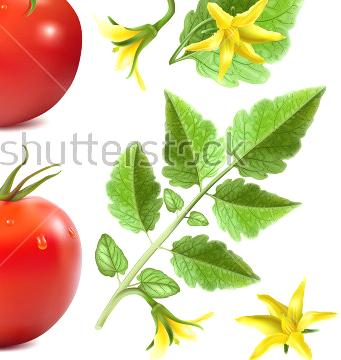Tomato leaf: (143, 85, 240, 202), (226, 73, 333, 174), (194, 179, 341, 240), (101, 134, 168, 248), (171, 233, 278, 296)
